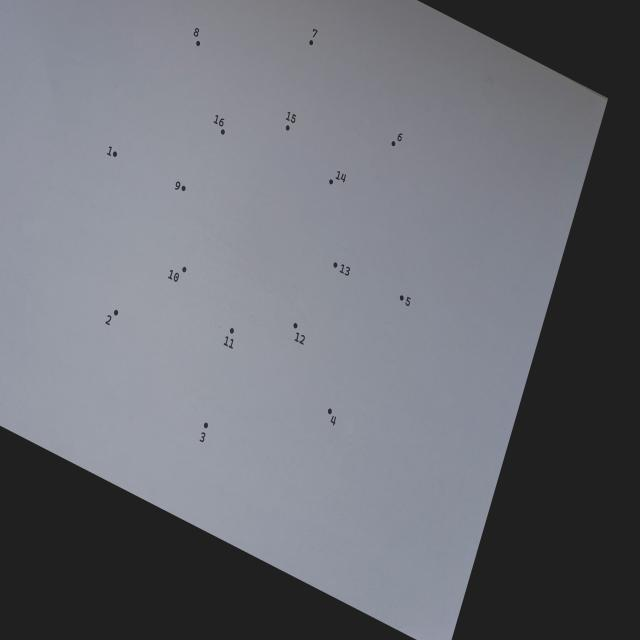Dot: (203, 422, 209, 429), (112, 151, 118, 157), (391, 140, 396, 147), (285, 125, 290, 131), (181, 186, 186, 192), (333, 262, 338, 268), (293, 322, 298, 328), (329, 178, 333, 185), (230, 327, 234, 334), (328, 408, 332, 415), (196, 40, 200, 46), (221, 129, 225, 135), (182, 266, 186, 272), (114, 310, 118, 316), (400, 295, 404, 301), (309, 40, 313, 45)
DotNumber: (168, 266, 186, 282), (293, 323, 306, 345), (213, 115, 225, 135), (329, 171, 346, 185), (334, 262, 351, 276), (224, 327, 234, 350), (105, 310, 119, 326), (200, 422, 210, 443), (286, 111, 296, 131), (327, 408, 337, 427), (391, 133, 403, 147), (309, 28, 318, 46), (193, 28, 200, 47), (174, 181, 186, 192), (399, 295, 411, 306), (107, 146, 117, 157)
Number: (213, 114, 225, 127), (294, 332, 306, 345), (224, 335, 234, 350), (168, 270, 179, 282), (336, 170, 346, 183), (340, 264, 350, 276), (286, 112, 296, 123), (105, 314, 112, 326), (330, 415, 337, 427), (200, 431, 206, 443), (405, 296, 411, 307), (312, 28, 318, 38), (174, 181, 180, 190), (107, 146, 112, 156), (194, 28, 199, 37), (397, 133, 402, 142)
